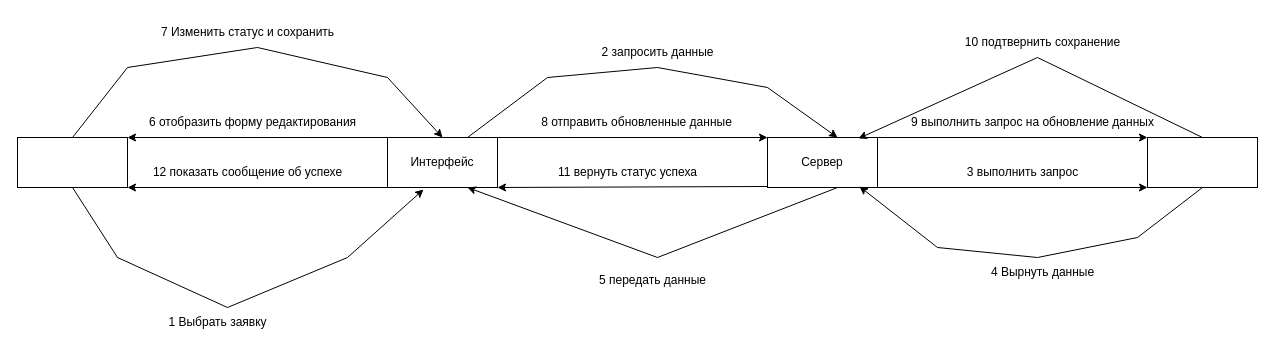
Image size: 1275x354. Some labels were removed from this diagram. The centre of each missing label's shape, as x and y in pixels:
Администратор: point (72, 162)
БД: point (1202, 162)
